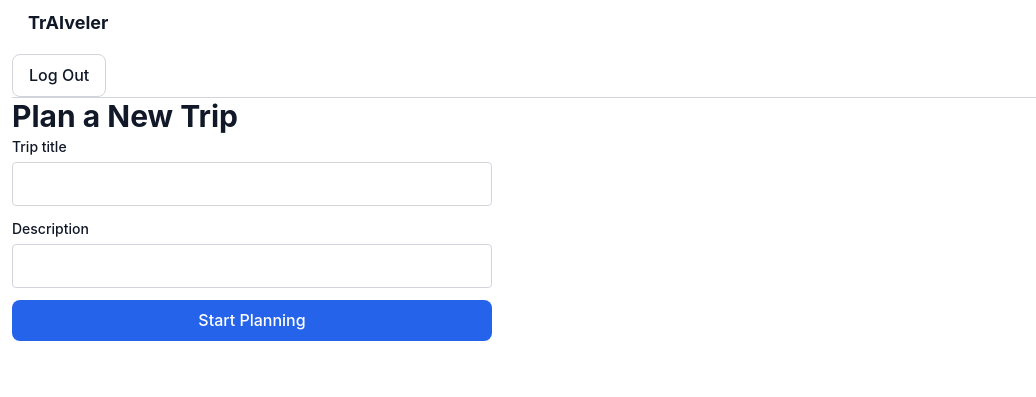
Test: <GeneratePage /> › when trip creation fails › should keep the form visible and show an error
Type "Two weeks in Japan" into the field labelled "Trip title".
click(252, 184); type("Two weeks in Japan")  # box [12,162,492,206]
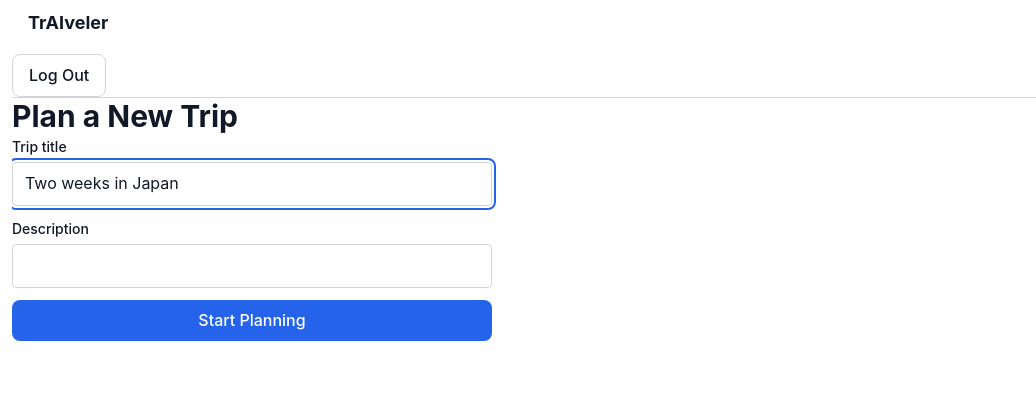
Click the button "Start Planning".
click(252, 321)  # box [12,300,492,342]
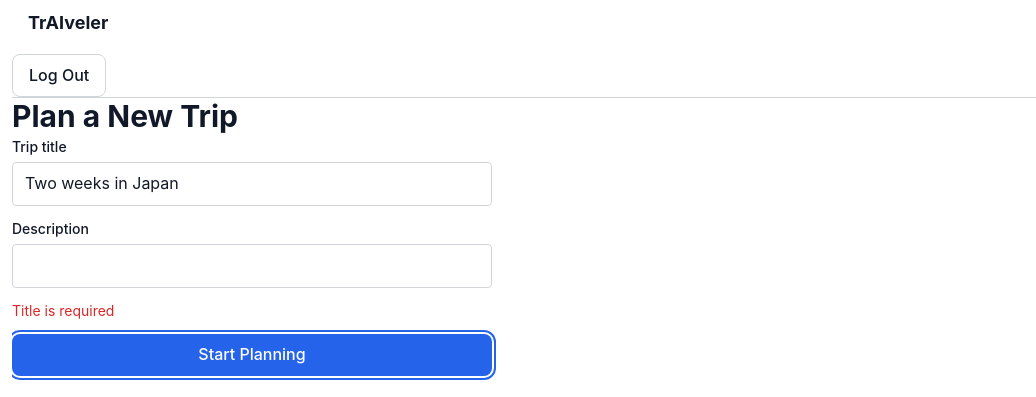
Expected: the button "Start Planning" is shown, [12,334,492,376]
Result: the message "Title is required" is shown at [12,302,114,319]
